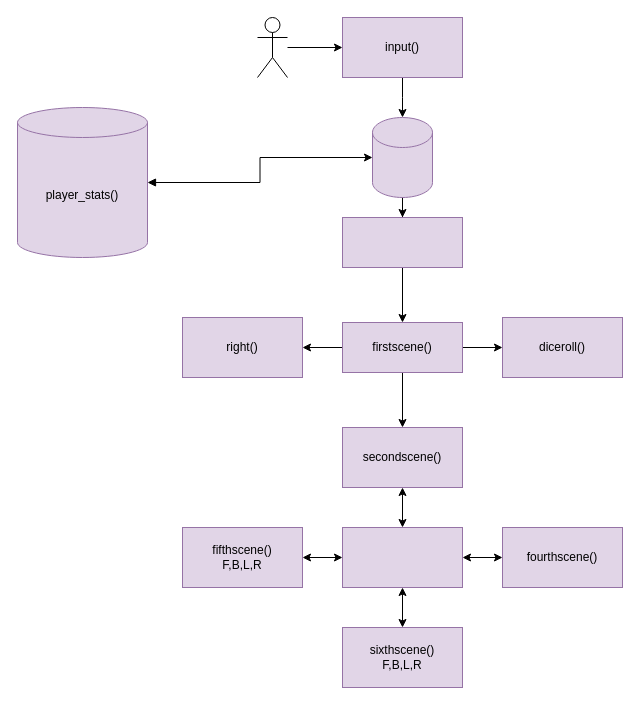
Some shapes in this 640 by 705 pixel diagram are drawn without their labels. Here are the shapes that lost their labels. From the top down, the centre of each, then its label:
At pixel 272 47: "Actor".
At pixel 402 157: "player stats".
At pixel 402 242: "intro()".
At pixel 402 557: "thirdscene() F,B,L,R".
